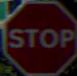Stop: (6, 11, 73, 56)
